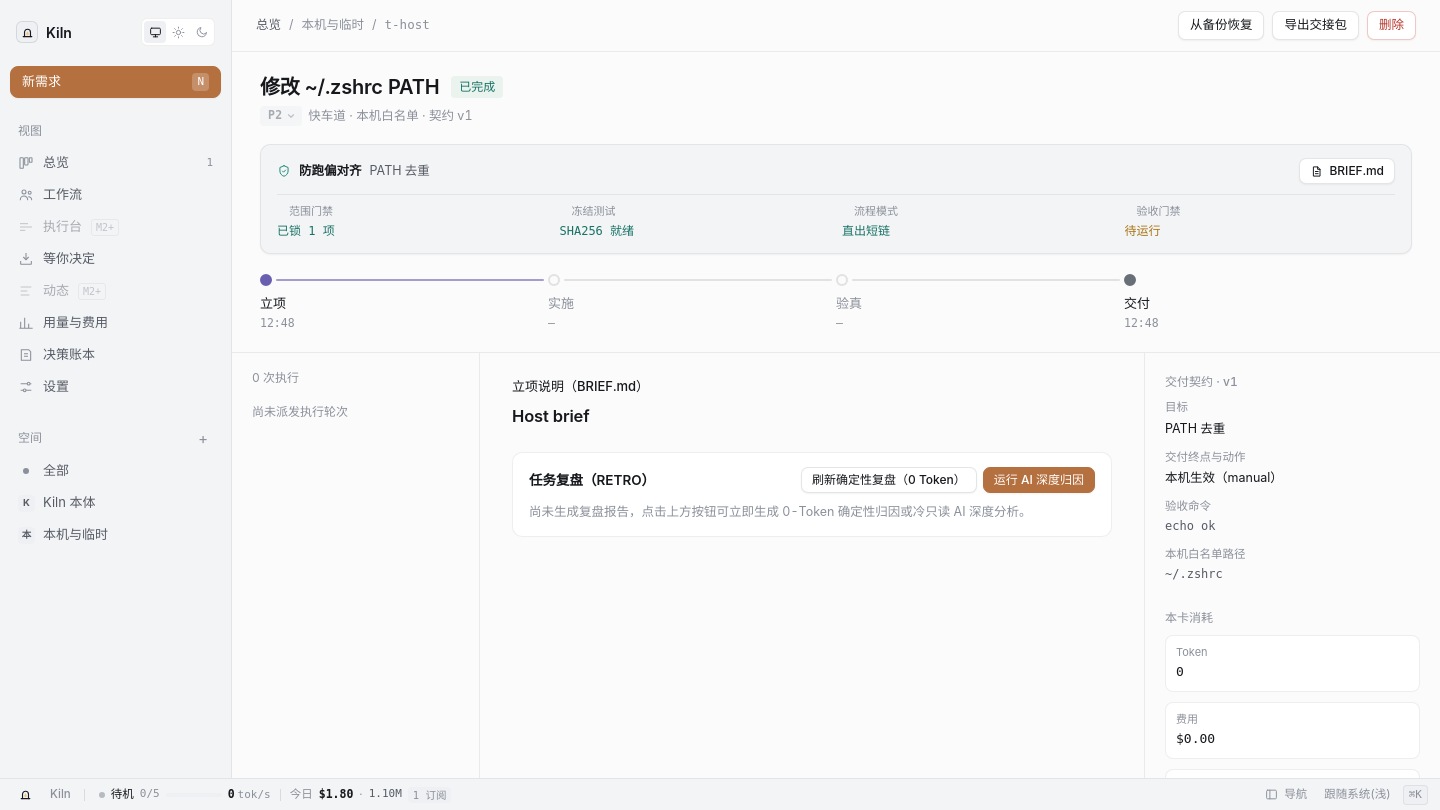
@kiln/web M2-S3 MVP Workbench › DetailView displays conflict path and unified diff when restore-backup returns 409 hash_mismatch
Click the button "从备份恢复". click: [1221, 26]
box: x1=1178 y1=11 x2=1264 y2=40
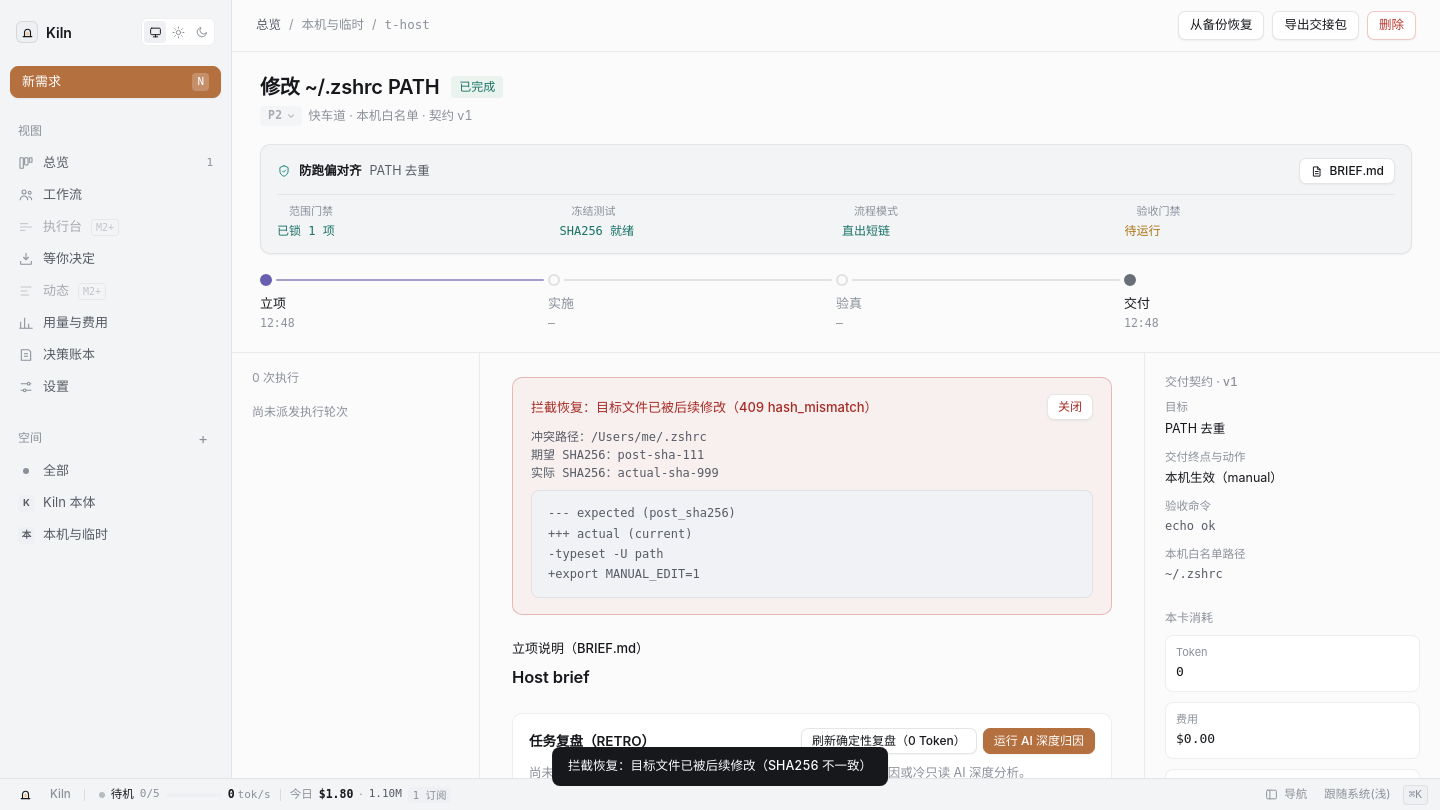
Expected: the text "拦截恢复：目标文件已被后续修改（409 hash_mismatch）" is shown, x1=531 y1=398 x2=878 y2=417
Expected: the text "冲突路径：/Users/me/.zshrc" is shown, x1=531 y1=430 x2=707 y2=444
Expected: the text "+export MANUAL_EDIT=1" is shown, x1=548 y1=506 x2=736 y2=582
